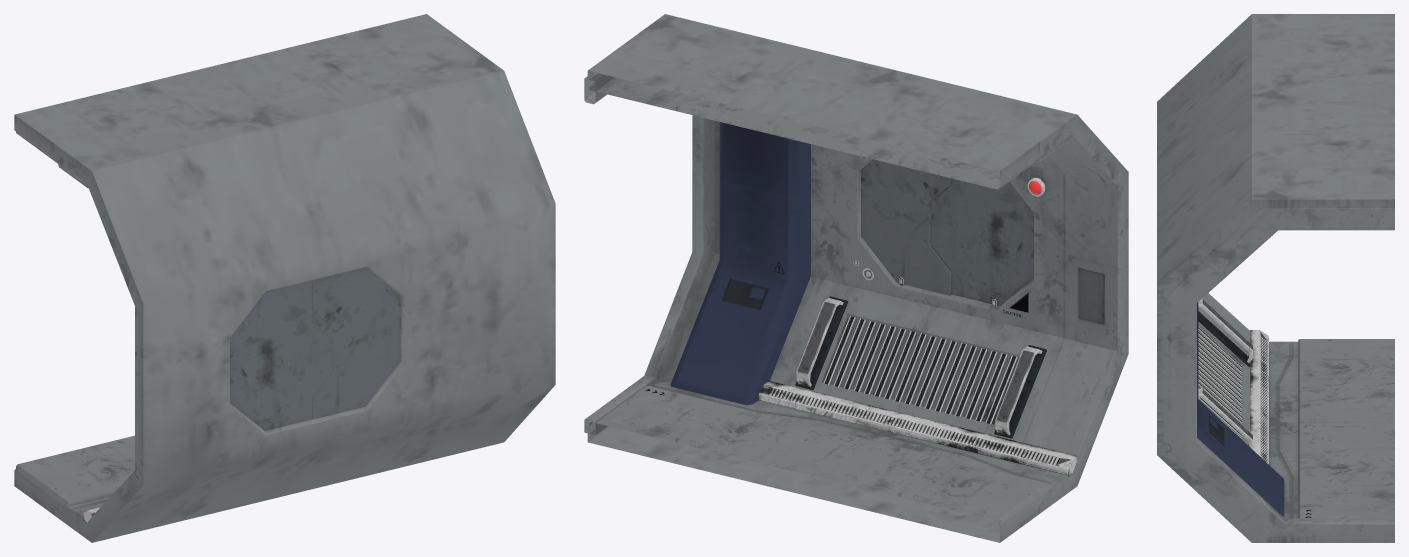
The model's file is wall-b.glb.
3 renders of one model, left to right at view 1: azimuth 30°, elevation 25°; view 2: azimuth 150°, elevation 25°; view 3: azimuth 270°, elevation 25°, orthographic. The views are drawn at different scales.
Visible parts, largest first — view 1: Env_Wall3_Walls_0; view 2: Env_Wall3_Walls_0; view 3: Env_Wall3_Walls_0.
Boxes of the visible parts, x1,y1,x2,y2 form: Env_Wall3_Walls_0: (14,14,555,542); Env_Wall3_Walls_0: (584,14,1128,542); Env_Wall3_Walls_0: (1157,14,1394,542).
Size of the model in its own units: 4.49 by 3.83 by 2.41.
1 material, 1 textured.
